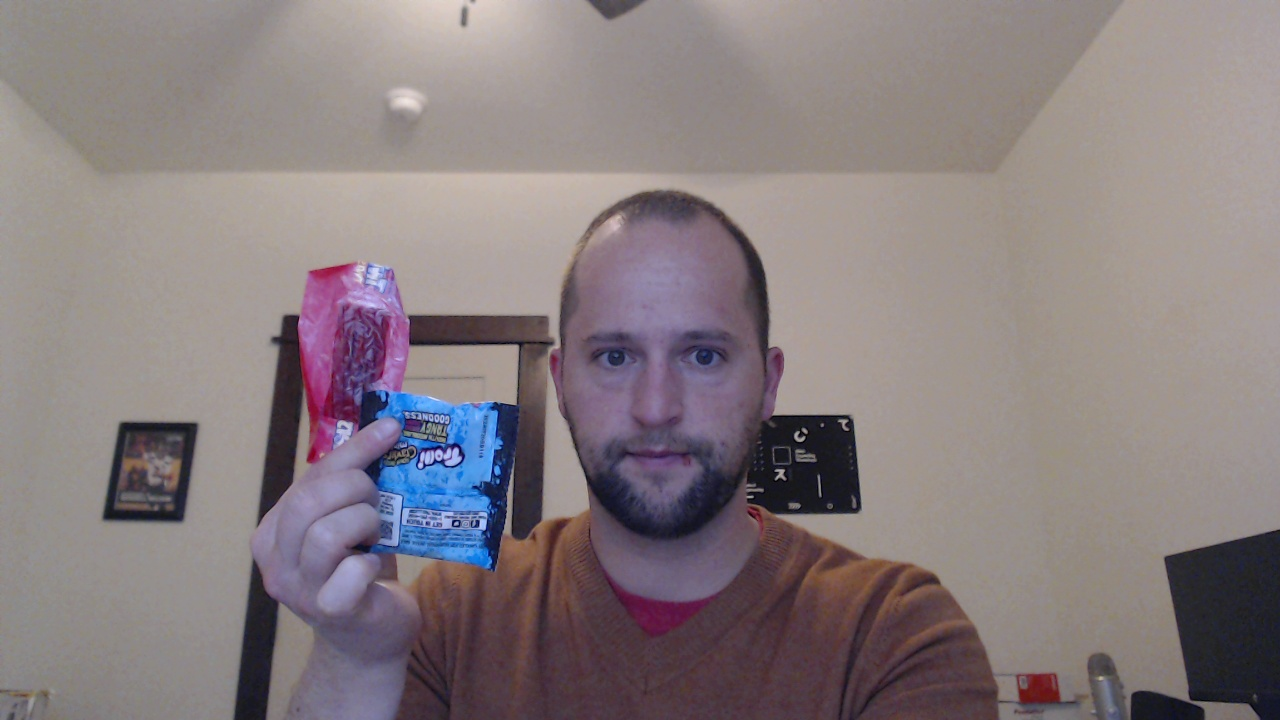gummy_worms: (347, 382, 512, 579)
starbust: (267, 231, 407, 467)
